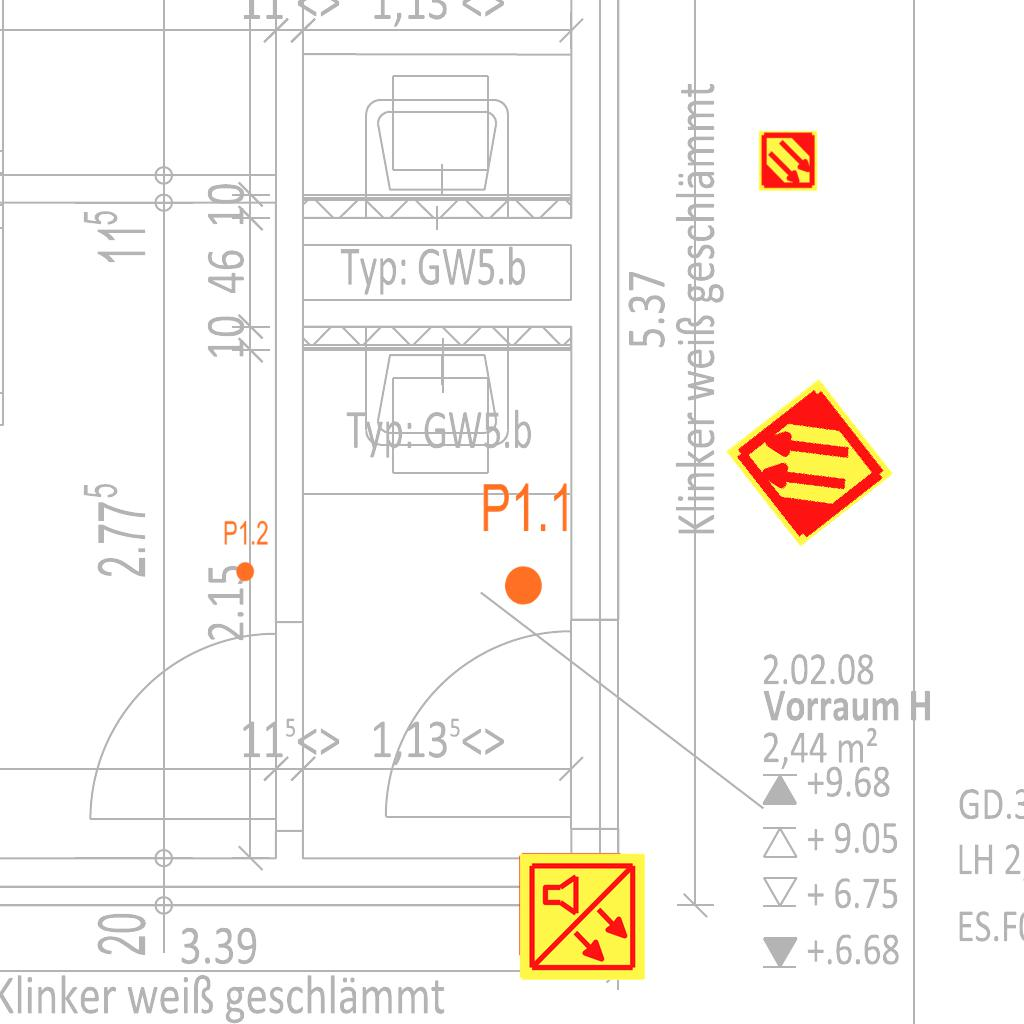ASR_Ansaugrauchmelder: (721, 374, 898, 551), (757, 130, 819, 192)
Downlight_LED_Einbauleuchten_Flur: (480, 480, 573, 608), (223, 519, 269, 583)
OKW_Multisensormelder_(Kombination_optischer_Rauch-Kahlenmonoxid_Waerme-Melder): (516, 851, 648, 983)
